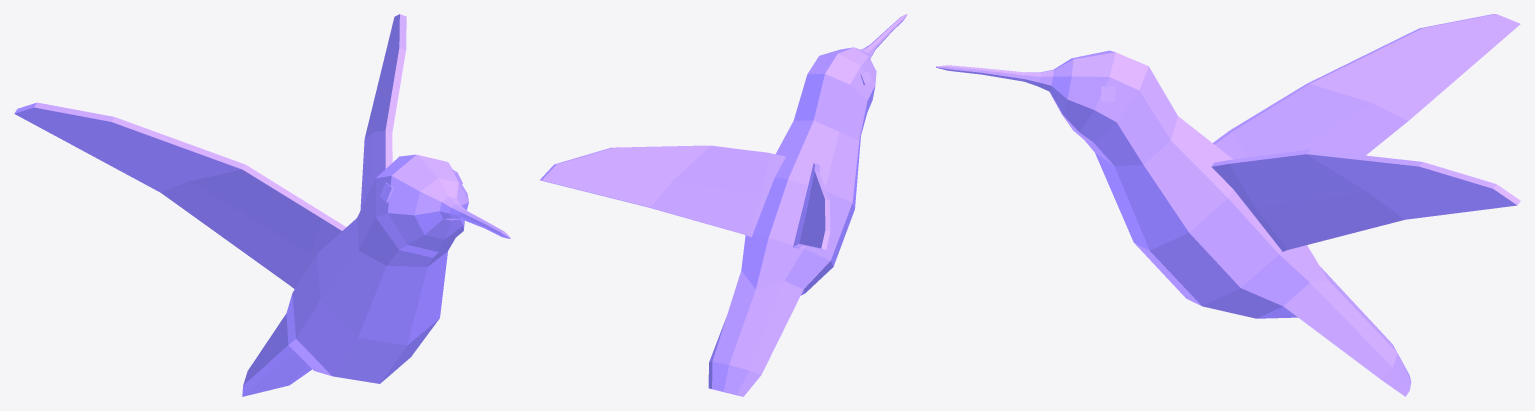
File: hummingbird_from_poly_by_google.glb
3 renders of one model, left to right at view 1: azimuth 30°, elevation 25°; view 2: azimuth 150°, elevation 25°; view 3: azimuth 270°, elevation 25°, orthographic. The views are drawn at different scales.
Visible parts, largest first — view 1: Object_4; view 2: Object_4; view 3: Object_4.
Boxes of the visible parts, x1=… form: Object_4: x1=14, y1=14, x2=510, y2=396; Object_4: x1=540, y1=14, x2=907, y2=396; Object_4: x1=936, y1=14, x2=1520, y2=396.
Size of the model in its own units: 91.68 by 78.54 by 125.
